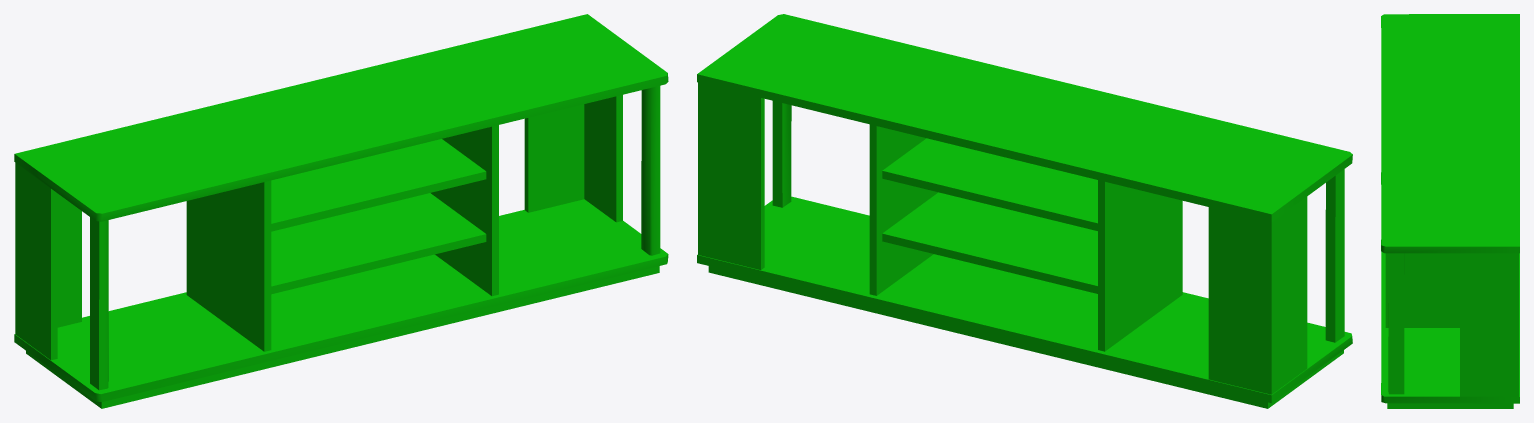
The model's file is UCX_TVStand.fbx.
3 views of the same model, side by side, from view 1: azimuth 30°, elevation 25°; view 2: azimuth 150°, elevation 25°; view 3: azimuth 270°, elevation 25° (orthographic). The views are drawn at different scales.
Parts seen in each view (by area): view 1: UCX_TVStand; view 2: UCX_TVStand; view 3: UCX_TVStand.
Part boxes in pixels (x1,y1,x2,y2): UCX_TVStand: (14,14,668,408); UCX_TVStand: (697,14,1352,408); UCX_TVStand: (1381,14,1519,408).
Bounding box in the file's own units: 1.15 × 0.381 × 0.2896.
